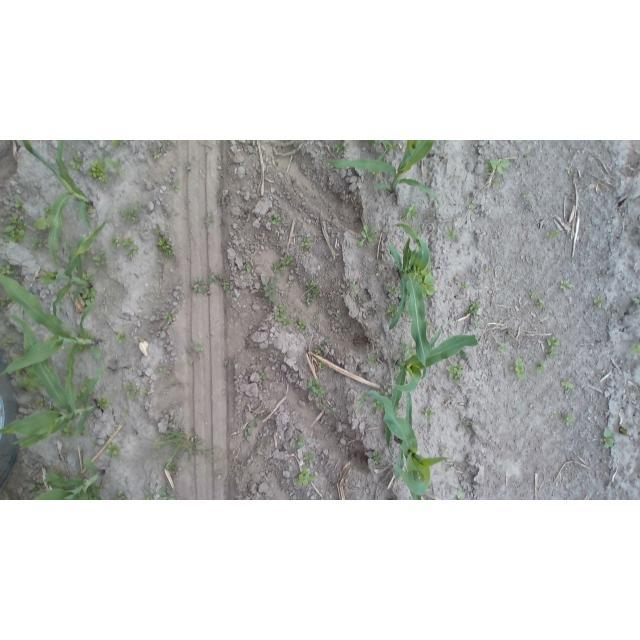Maize: (385, 273, 479, 459), (1, 275, 103, 408), (2, 314, 101, 451), (359, 390, 449, 500), (22, 140, 95, 266), (37, 219, 109, 325), (326, 140, 438, 202), (388, 223, 430, 331), (34, 460, 107, 500), (1, 489, 11, 499)
Weeds: (151, 425, 222, 473), (2, 214, 26, 245), (193, 275, 230, 294), (306, 378, 327, 407), (15, 373, 41, 395), (369, 140, 396, 161), (155, 225, 173, 255), (123, 380, 147, 402), (420, 267, 437, 298), (303, 278, 321, 306), (260, 275, 278, 303), (510, 355, 529, 381), (88, 159, 107, 183), (271, 255, 295, 273), (359, 225, 377, 248), (122, 202, 141, 223), (275, 304, 293, 326), (445, 360, 464, 380), (298, 465, 316, 486), (484, 159, 509, 174), (105, 157, 124, 175), (403, 203, 420, 222), (544, 338, 559, 359), (188, 344, 203, 365), (69, 150, 83, 172), (33, 217, 52, 233), (399, 342, 416, 359), (92, 252, 108, 269), (1, 333, 17, 350), (291, 436, 309, 451), (602, 427, 614, 449), (366, 450, 382, 466), (467, 300, 483, 315), (84, 289, 97, 307), (423, 408, 438, 423), (105, 442, 120, 457), (628, 338, 640, 356), (159, 488, 177, 500), (560, 279, 575, 293), (162, 312, 176, 326), (96, 397, 110, 411), (496, 340, 512, 352), (30, 238, 44, 251), (565, 411, 578, 425), (244, 421, 254, 439), (368, 354, 380, 369), (466, 196, 477, 211), (301, 237, 313, 250), (296, 317, 307, 331), (115, 332, 127, 344), (545, 230, 561, 239), (127, 249, 140, 260), (272, 214, 283, 227), (560, 381, 575, 390), (159, 141, 171, 152), (332, 141, 344, 152), (592, 295, 604, 306), (447, 228, 458, 240), (117, 489, 129, 500), (0, 296, 10, 309), (123, 238, 137, 247), (538, 362, 549, 373), (389, 285, 399, 297), (370, 401, 382, 411), (82, 271, 94, 281), (205, 215, 214, 228), (387, 304, 396, 317), (1, 263, 11, 274), (536, 299, 547, 309), (458, 282, 471, 290), (35, 398, 45, 408), (62, 427, 72, 437), (522, 193, 533, 202), (303, 454, 317, 461), (173, 181, 185, 189), (455, 488, 463, 500), (112, 236, 121, 246), (62, 240, 71, 250), (121, 410, 131, 419), (108, 141, 120, 148), (15, 198, 25, 206), (151, 151, 159, 161), (524, 151, 532, 160), (34, 484, 42, 493), (243, 263, 250, 273), (529, 291, 539, 298), (154, 367, 164, 374), (475, 321, 486, 327), (349, 282, 356, 291), (368, 171, 380, 176), (45, 204, 52, 212), (619, 427, 627, 434), (259, 372, 266, 380), (553, 412, 559, 421), (147, 493, 156, 499), (91, 439, 97, 448), (633, 297, 640, 304), (314, 349, 321, 356), (319, 362, 326, 369), (287, 282, 293, 289), (484, 269, 492, 274), (224, 361, 228, 367)
